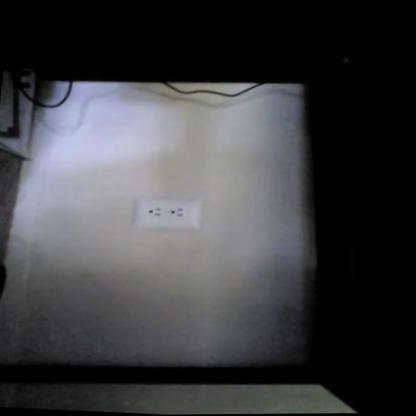OUTLET: (129, 193, 203, 231)
